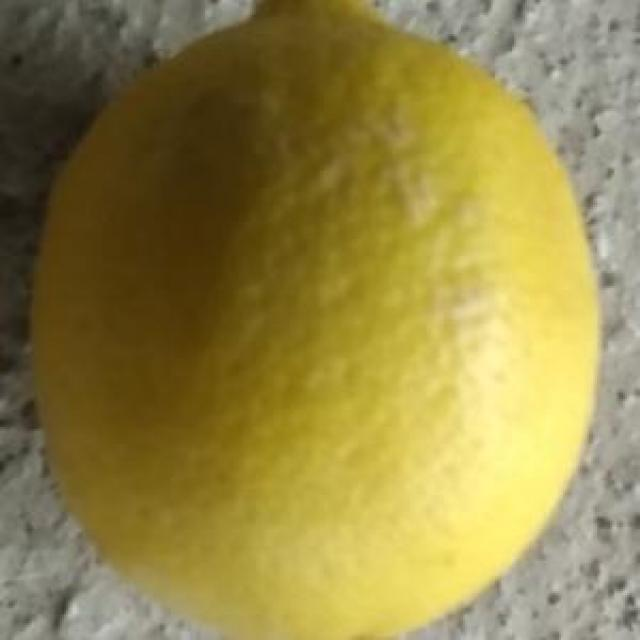lemon: (27, 1, 598, 640)
